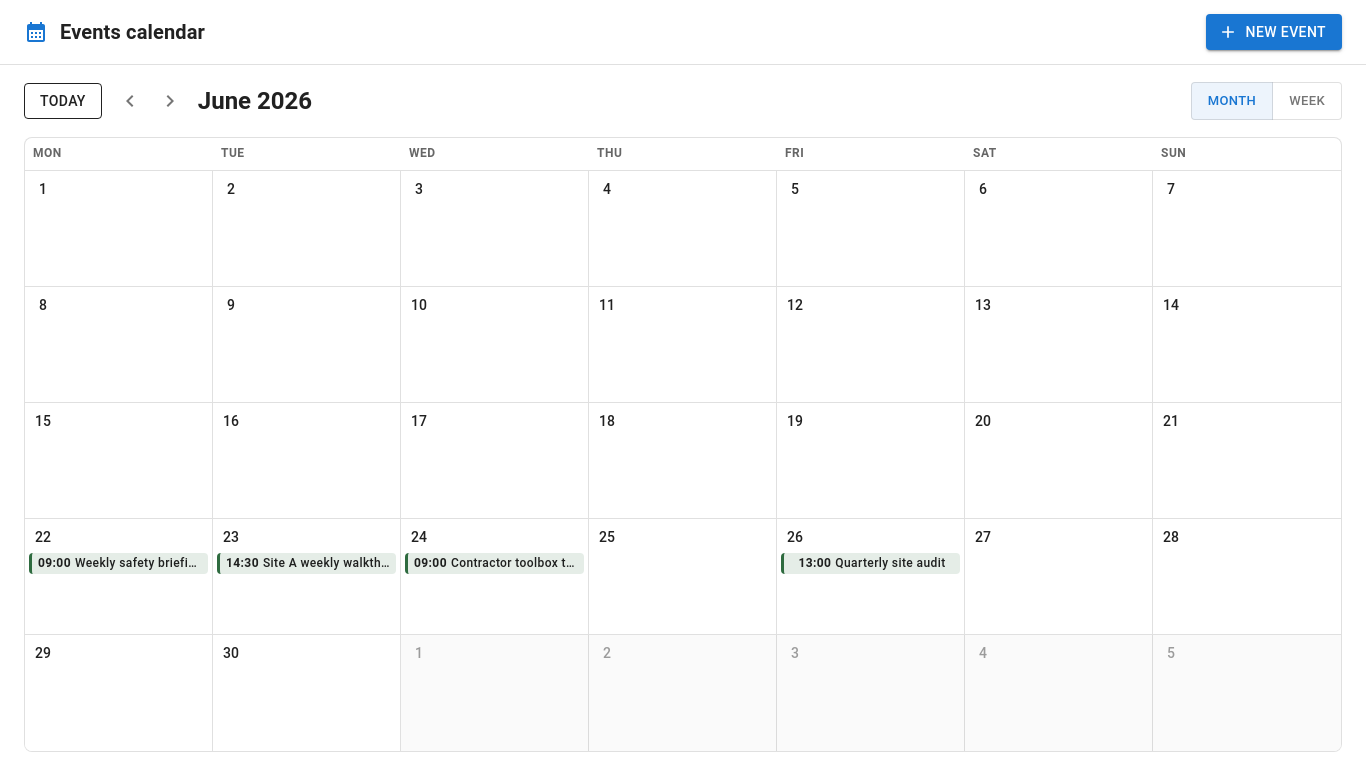
Test case: CalendarApp › creates an event from a click on a day
Click the element named "Thursday, 25 June 2026" at (683, 577), box 589,519 -> 777,635
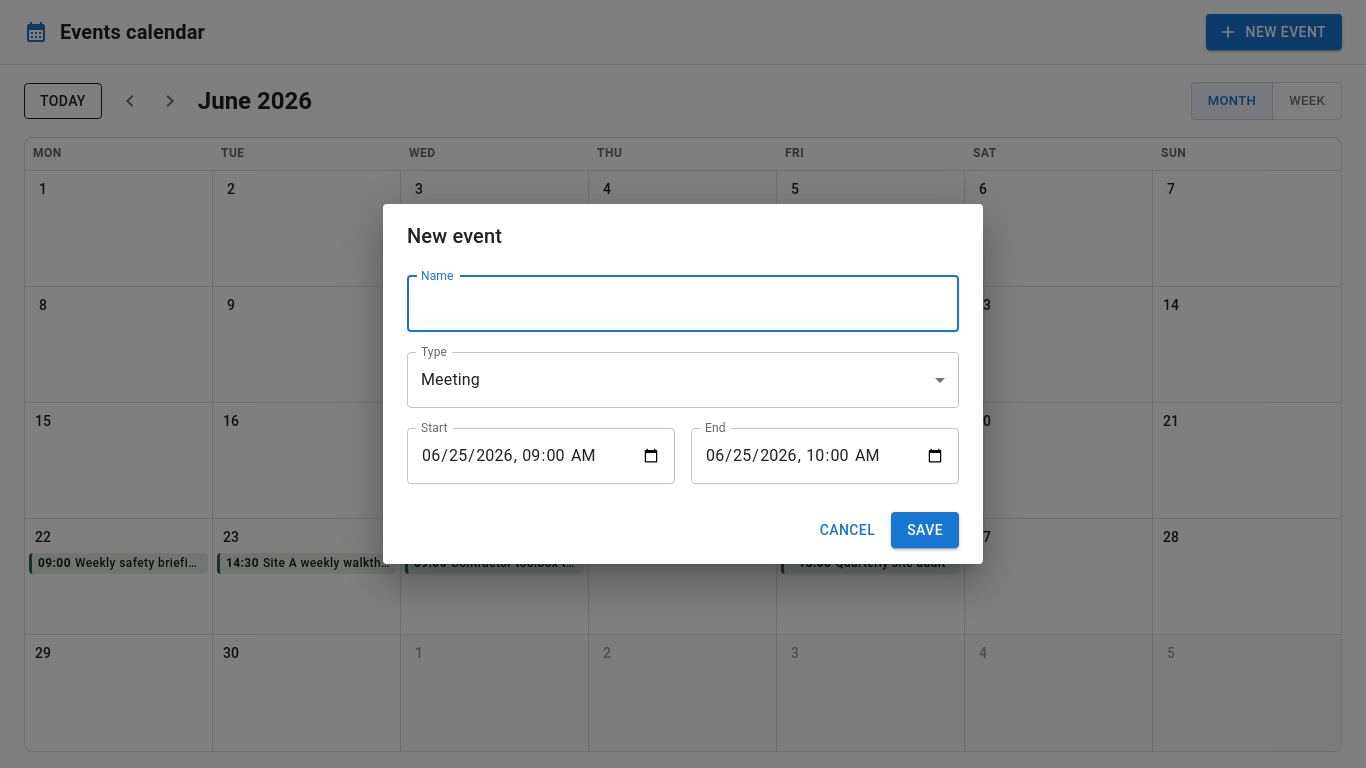
Expected: the field labelled "Start" holds "2026-06-25T09:00", 407,428 -> 675,484
Type "Fire drill" into the field labelled "Name" at (683, 304), box 407,276 -> 959,332
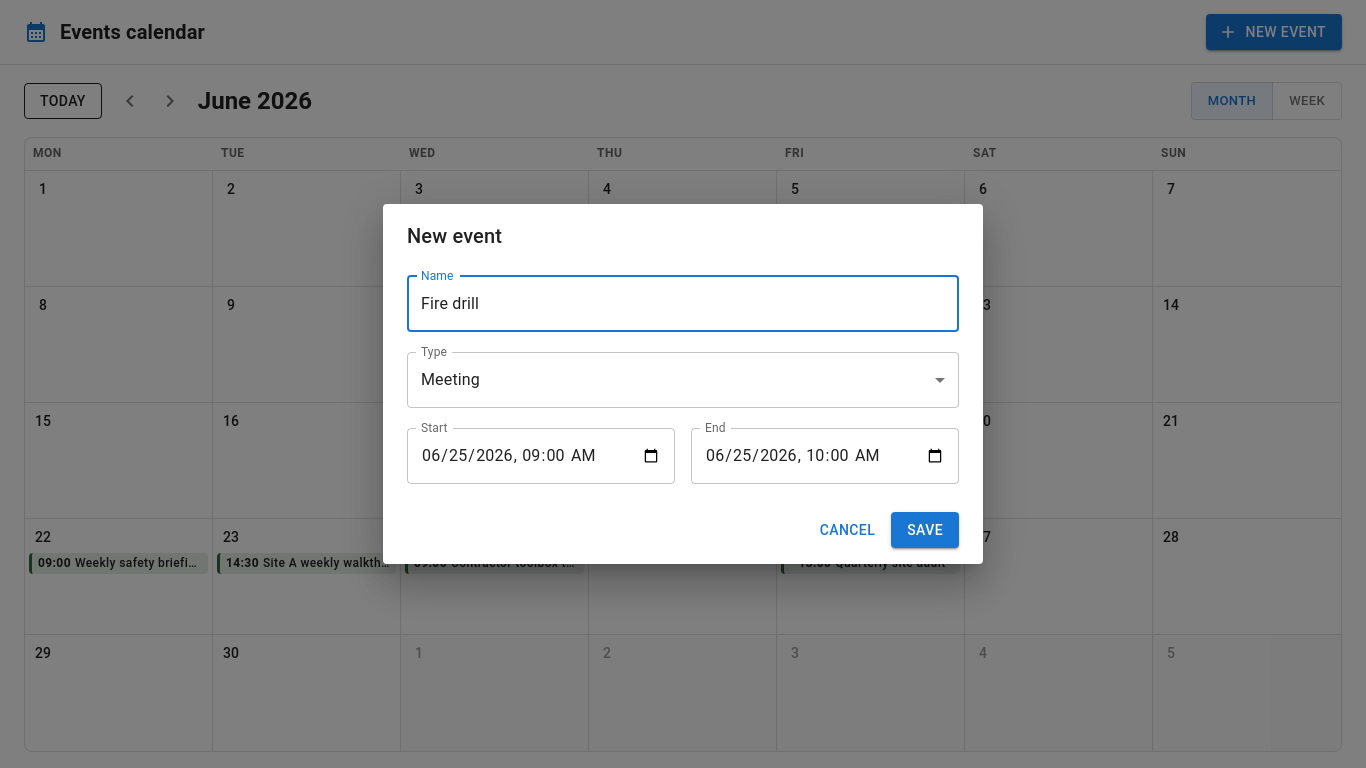
Click the button "Save" at (925, 530), box 891,512 -> 959,548
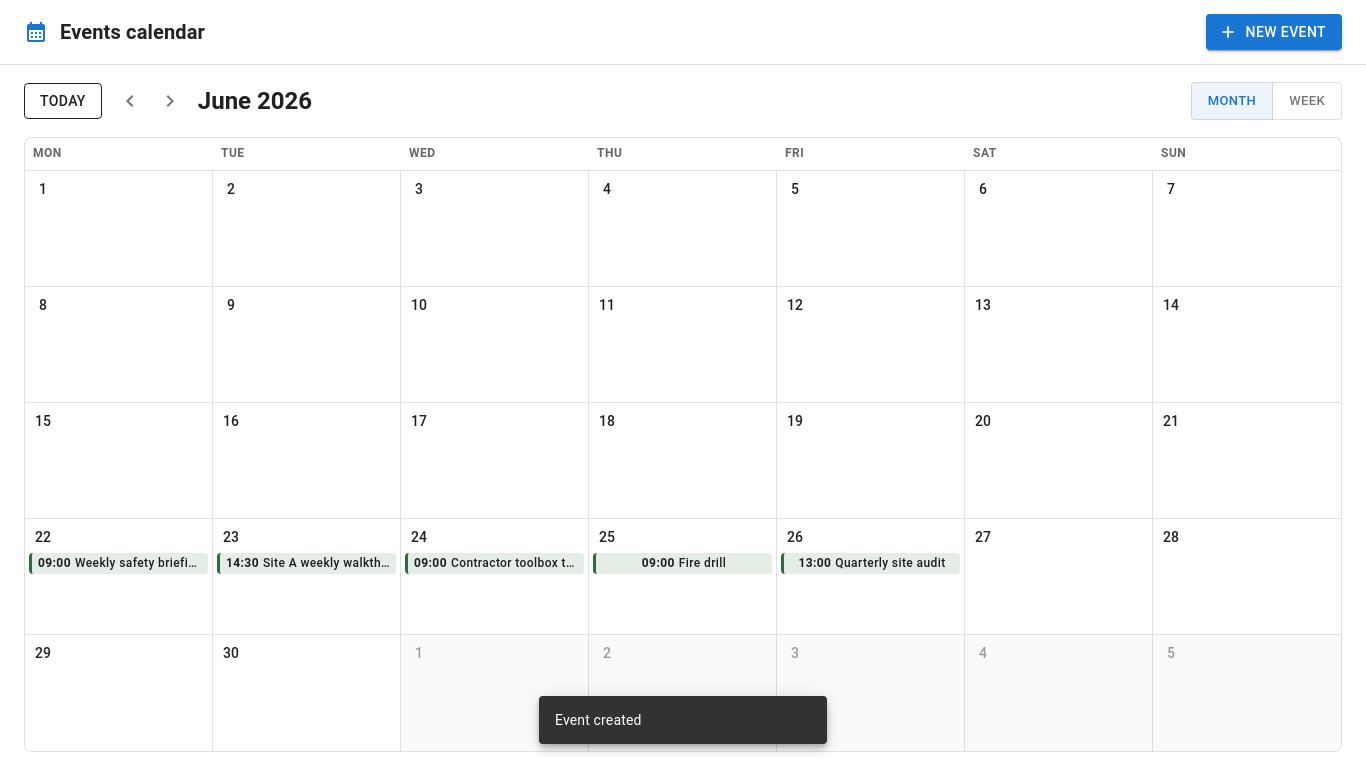
Expected: the button with aria-label "Fire drill, Meeting, 09:00 to 10:00" is shown, 593,553 -> 772,574
Expected: the text "Event created" is shown, 555,712 -> 642,728
